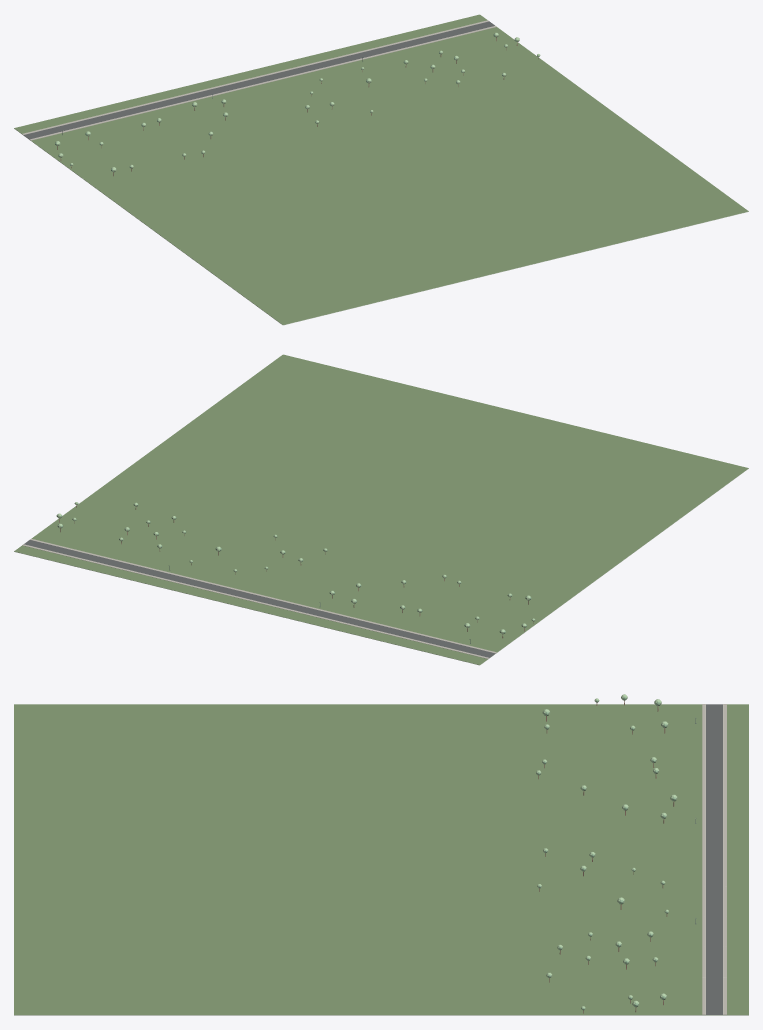
The model's file is chunk_3_2_high.glb.
The picture shows the model from 3 angles, top to bottom: view 1: azimuth 30°, elevation 25°; view 2: azimuth 150°, elevation 25°; view 3: azimuth 270°, elevation 25°; orthographic projection. The views are drawn at different scales.
Visible parts, largest first — view 1: city_forest_floor, city_world_asphalt, city_world_sidewalk, city_grass, city_curb, city_foliage; view 2: city_forest_floor, city_world_asphalt, city_world_sidewalk, city_grass, city_curb, city_foliage; view 3: city_forest_floor, city_world_asphalt, city_world_sidewalk, city_foliage, city_grass, city_curb.
Boxes of the visible parts, bbox=[...] form: city_forest_floor: bbox=[14, 14, 748, 324]; city_world_asphalt: bbox=[24, 21, 494, 139]; city_world_sidewalk: bbox=[22, 20, 496, 140]; city_grass: bbox=[14, 128, 748, 325]; city_curb: bbox=[23, 21, 494, 138]; city_foliage: bbox=[55, 32, 540, 172]; city_forest_floor: bbox=[14, 354, 748, 664]; city_world_asphalt: bbox=[24, 540, 495, 657]; city_world_sidewalk: bbox=[22, 538, 496, 658]; city_grass: bbox=[14, 468, 748, 665]; city_curb: bbox=[24, 539, 495, 657]; city_foliage: bbox=[57, 502, 534, 634]; city_forest_floor: bbox=[14, 704, 748, 1014]; city_world_asphalt: bbox=[706, 704, 722, 1014]; city_world_sidewalk: bbox=[702, 704, 726, 1014]; city_foliage: bbox=[536, 694, 677, 1010]; city_grass: bbox=[14, 1015, 748, 1015]; city_curb: bbox=[702, 704, 726, 1014].
Bounding box in the file's own units: 513 × 9.76 × 512.
